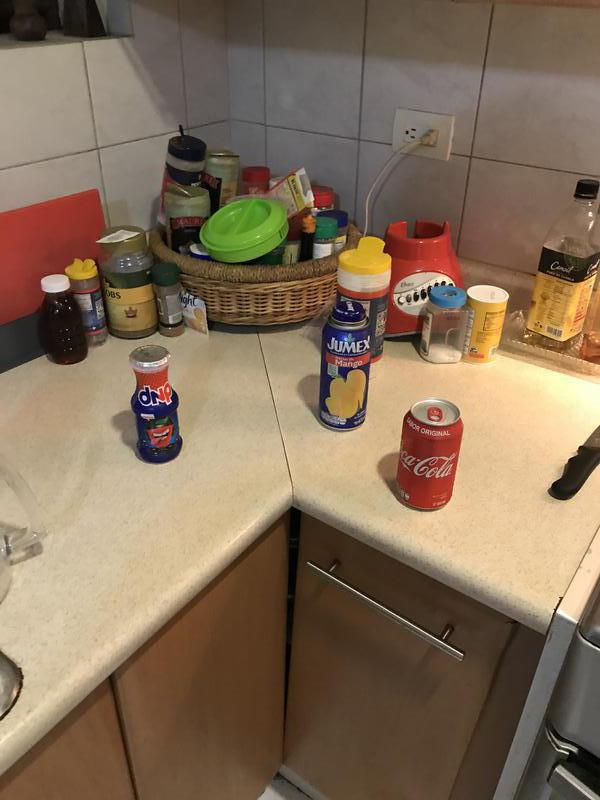coca_cola: (397, 400, 461, 512)
danup: (126, 347, 185, 462)
jugo_jumex: (319, 303, 374, 432)
